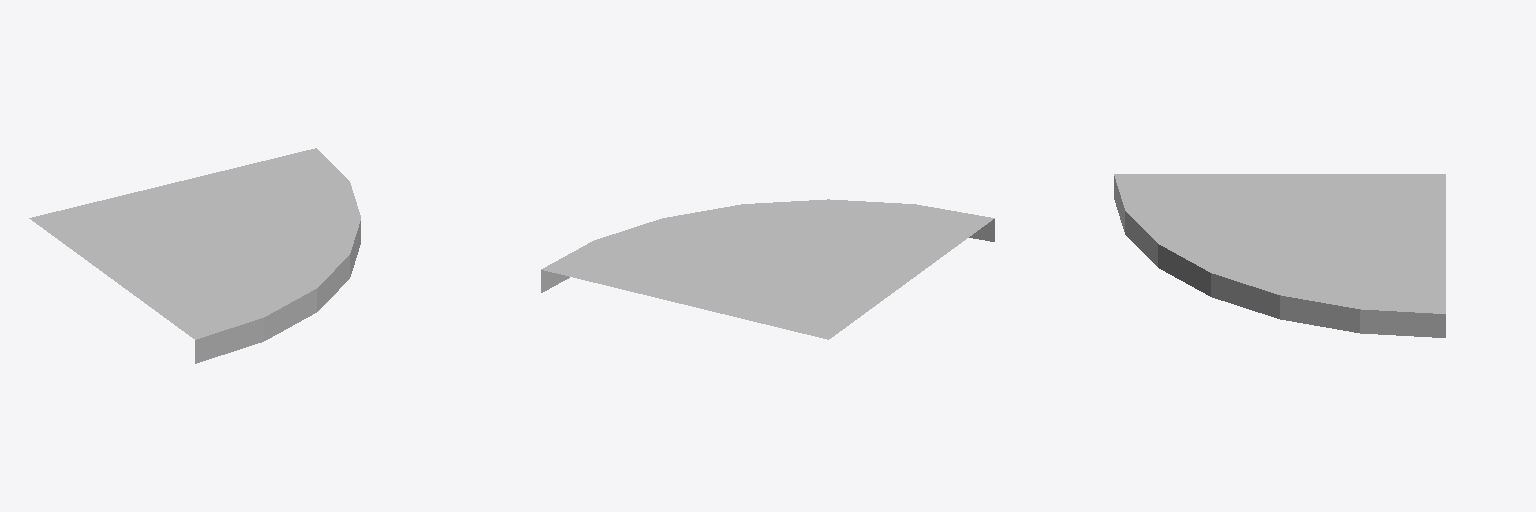
File: BG_PIZZA_04.obj
3 renders of one model, left to right at view 1: azimuth 30°, elevation 25°; view 2: azimuth 150°, elevation 25°; view 3: azimuth 270°, elevation 25°, orthographic.
Visible parts, largest first — view 1: Pizza04; view 2: Pizza04; view 3: Pizza04.
Boxes of the visible parts, <box> form: Pizza04: <box>29,148,360,363</box>; Pizza04: <box>541,199,994,339</box>; Pizza04: <box>1114,174,1445,337</box>.
Bounding box in the file's own units: 78.42 × 6.27 × 78.42.